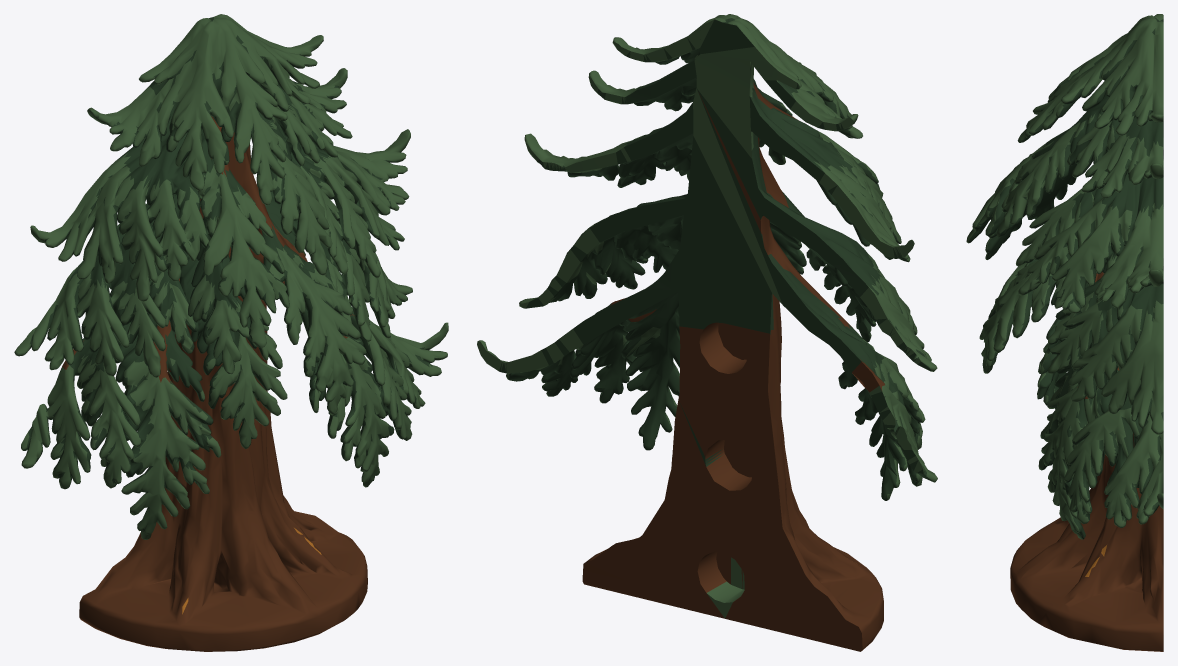
The model's file is western-red-cedar-magnet.glb.
The picture shows the model from 3 angles, left to right: view 1: azimuth 30°, elevation 25°; view 2: azimuth 150°, elevation 25°; view 3: azimuth 270°, elevation 25°; orthographic projection. The views are drawn at different scales.
Parts seen in each view (by area): view 1: magnet; view 2: magnet; view 3: magnet.
Boxes of the visible parts, left/top/right/bottom form: magnet: left=14, top=14, right=448, bottom=651; magnet: left=477, top=14, right=937, bottom=651; magnet: left=966, top=14, right=1163, bottom=651.
Bounding box in the file's own units: 59.82 × 74.99 × 23.56.
